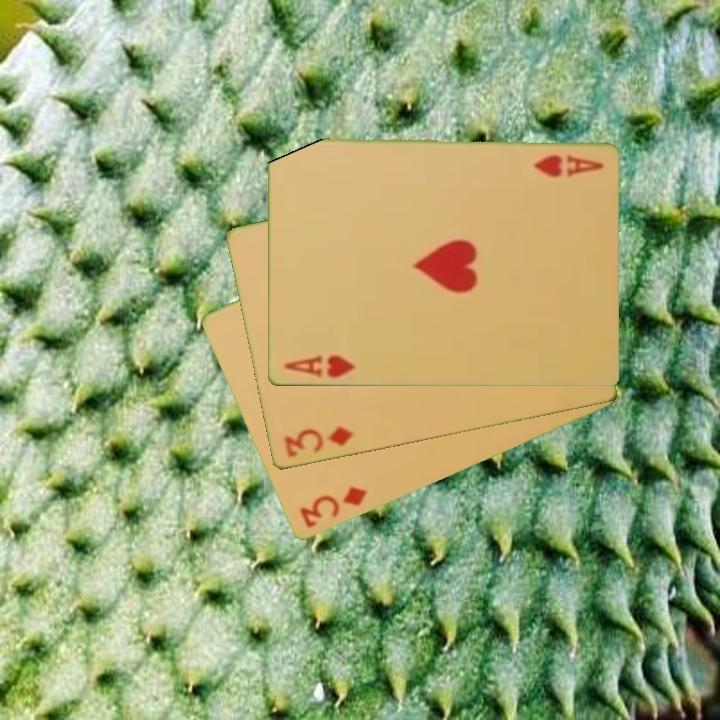3d: (296, 483, 371, 532), (280, 423, 356, 461)
Ah: (280, 352, 358, 381), (529, 151, 606, 177)
